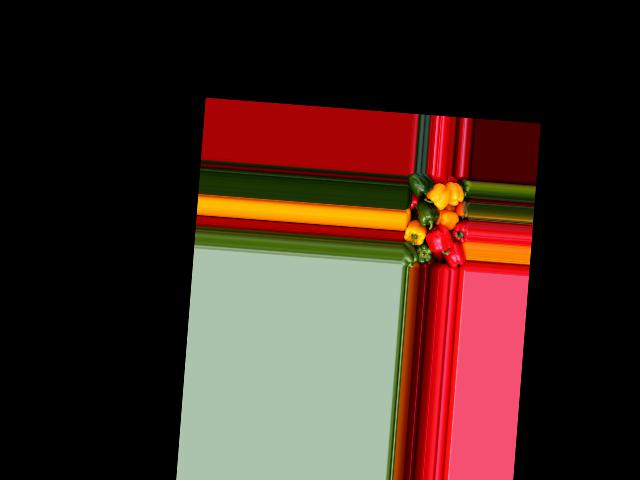bell_pepper: (459, 179, 471, 201)
